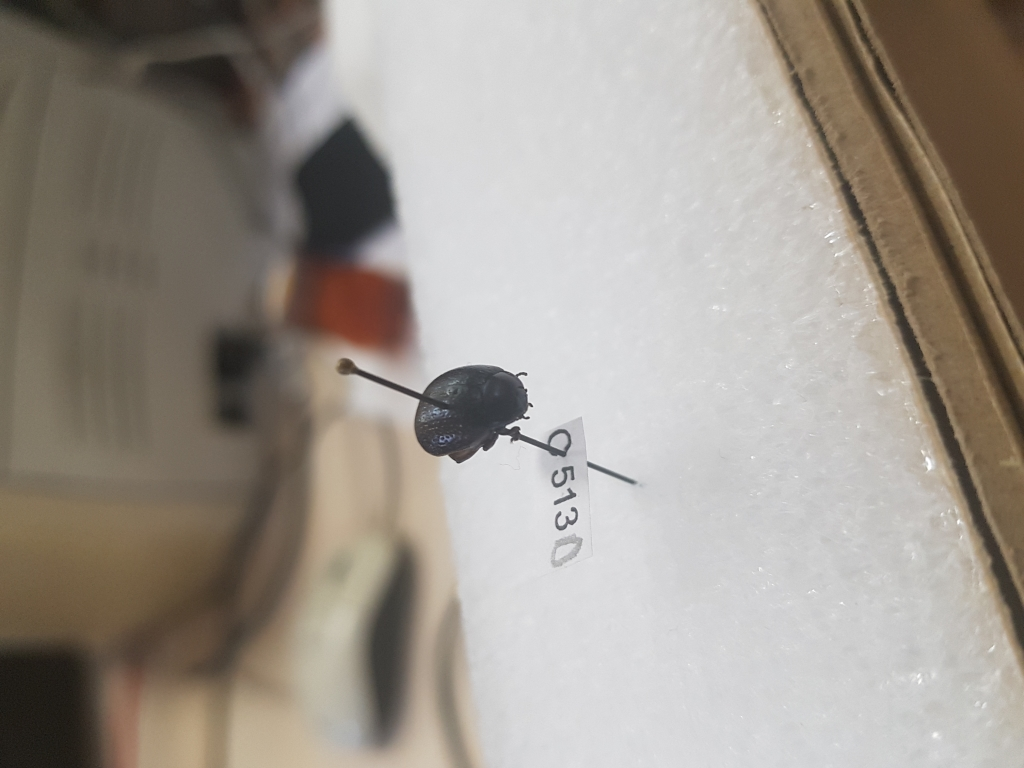Chrysolina_oricalcia: (406, 364, 539, 469)
